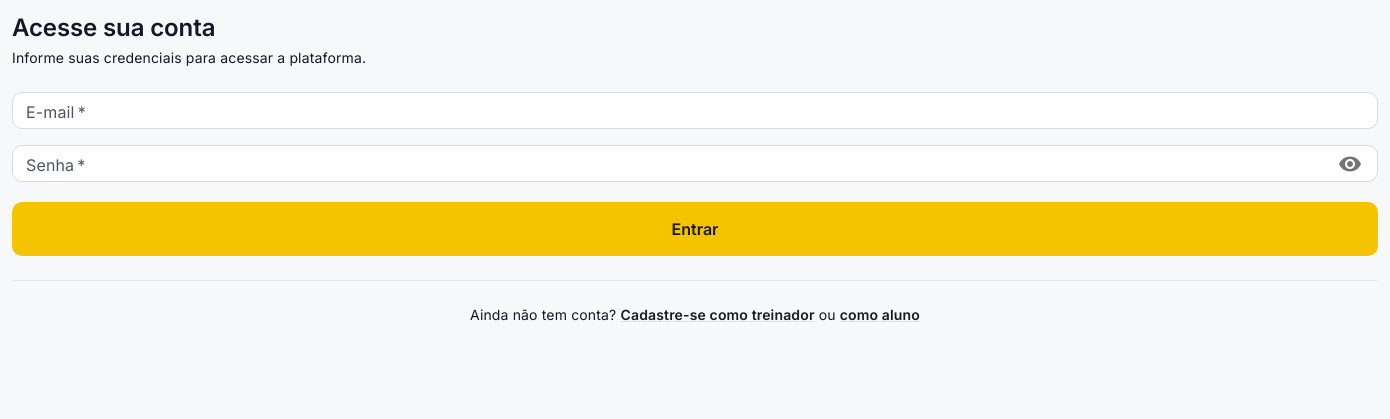
/login — segunda etapa MFA › fallback por e-mail: envia o código e troca a instrução
This screenshot has width=1390, height=419.
Type "u@u.com" into the field labelled "E-mail *".
click(695, 111); type("u@u.com")  # box [12, 92, 1378, 129]
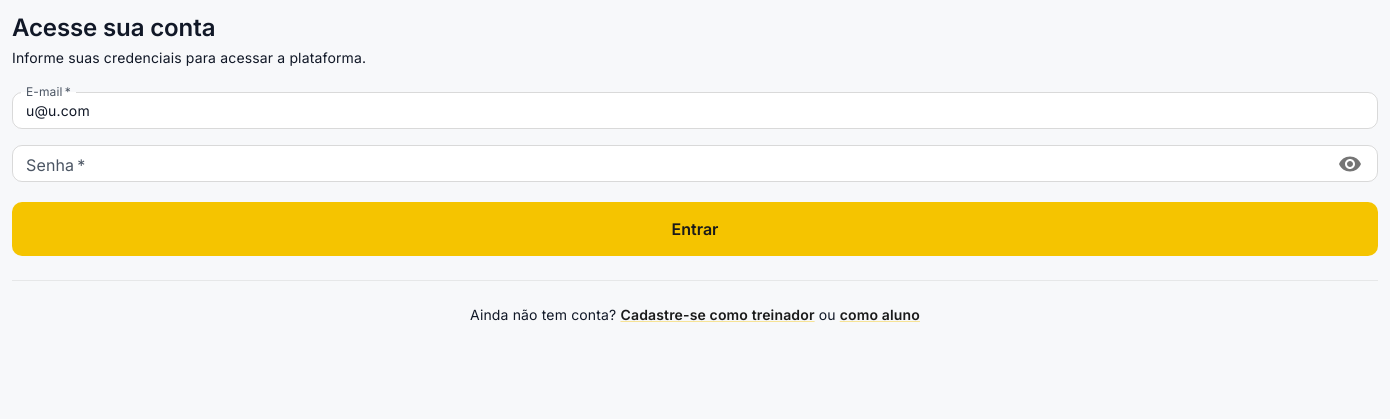
Type "senha123" into the password field labelled "Senha *".
click(668, 164); type("senha123")  # box [12, 145, 1325, 182]
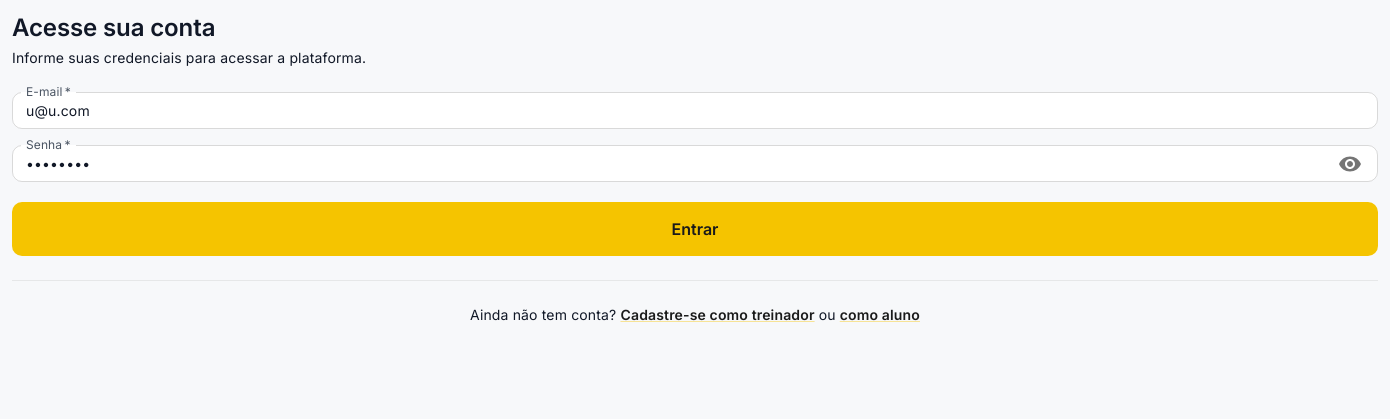
Click the button "Entrar".
click(695, 229)  # box [12, 202, 1378, 256]
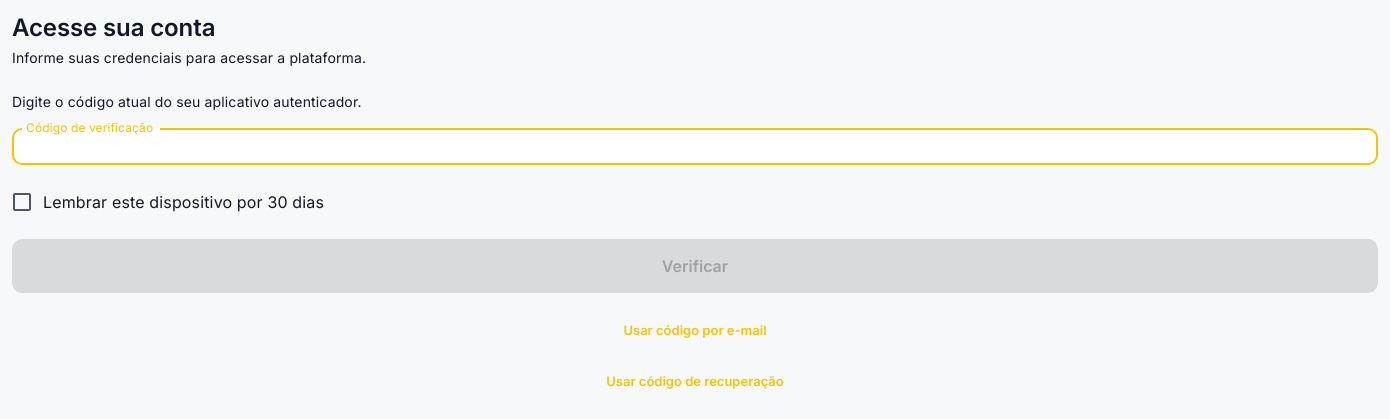
Click the button "Usar código por e-mail".
click(695, 331)  # box [12, 309, 1378, 352]
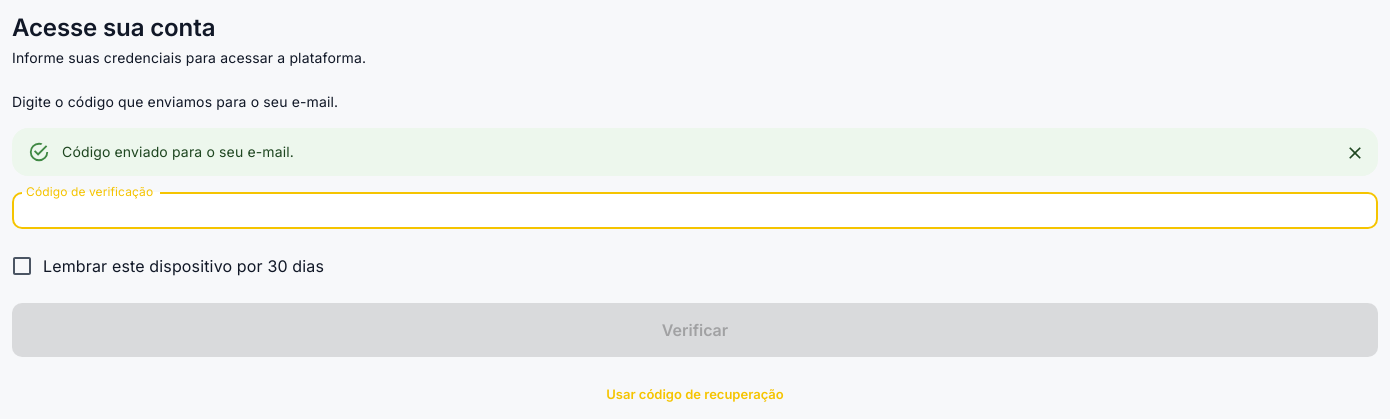
Now the text "Digite o código que enviamos para o seu e-mail." is shown, box [12, 93, 338, 110]
